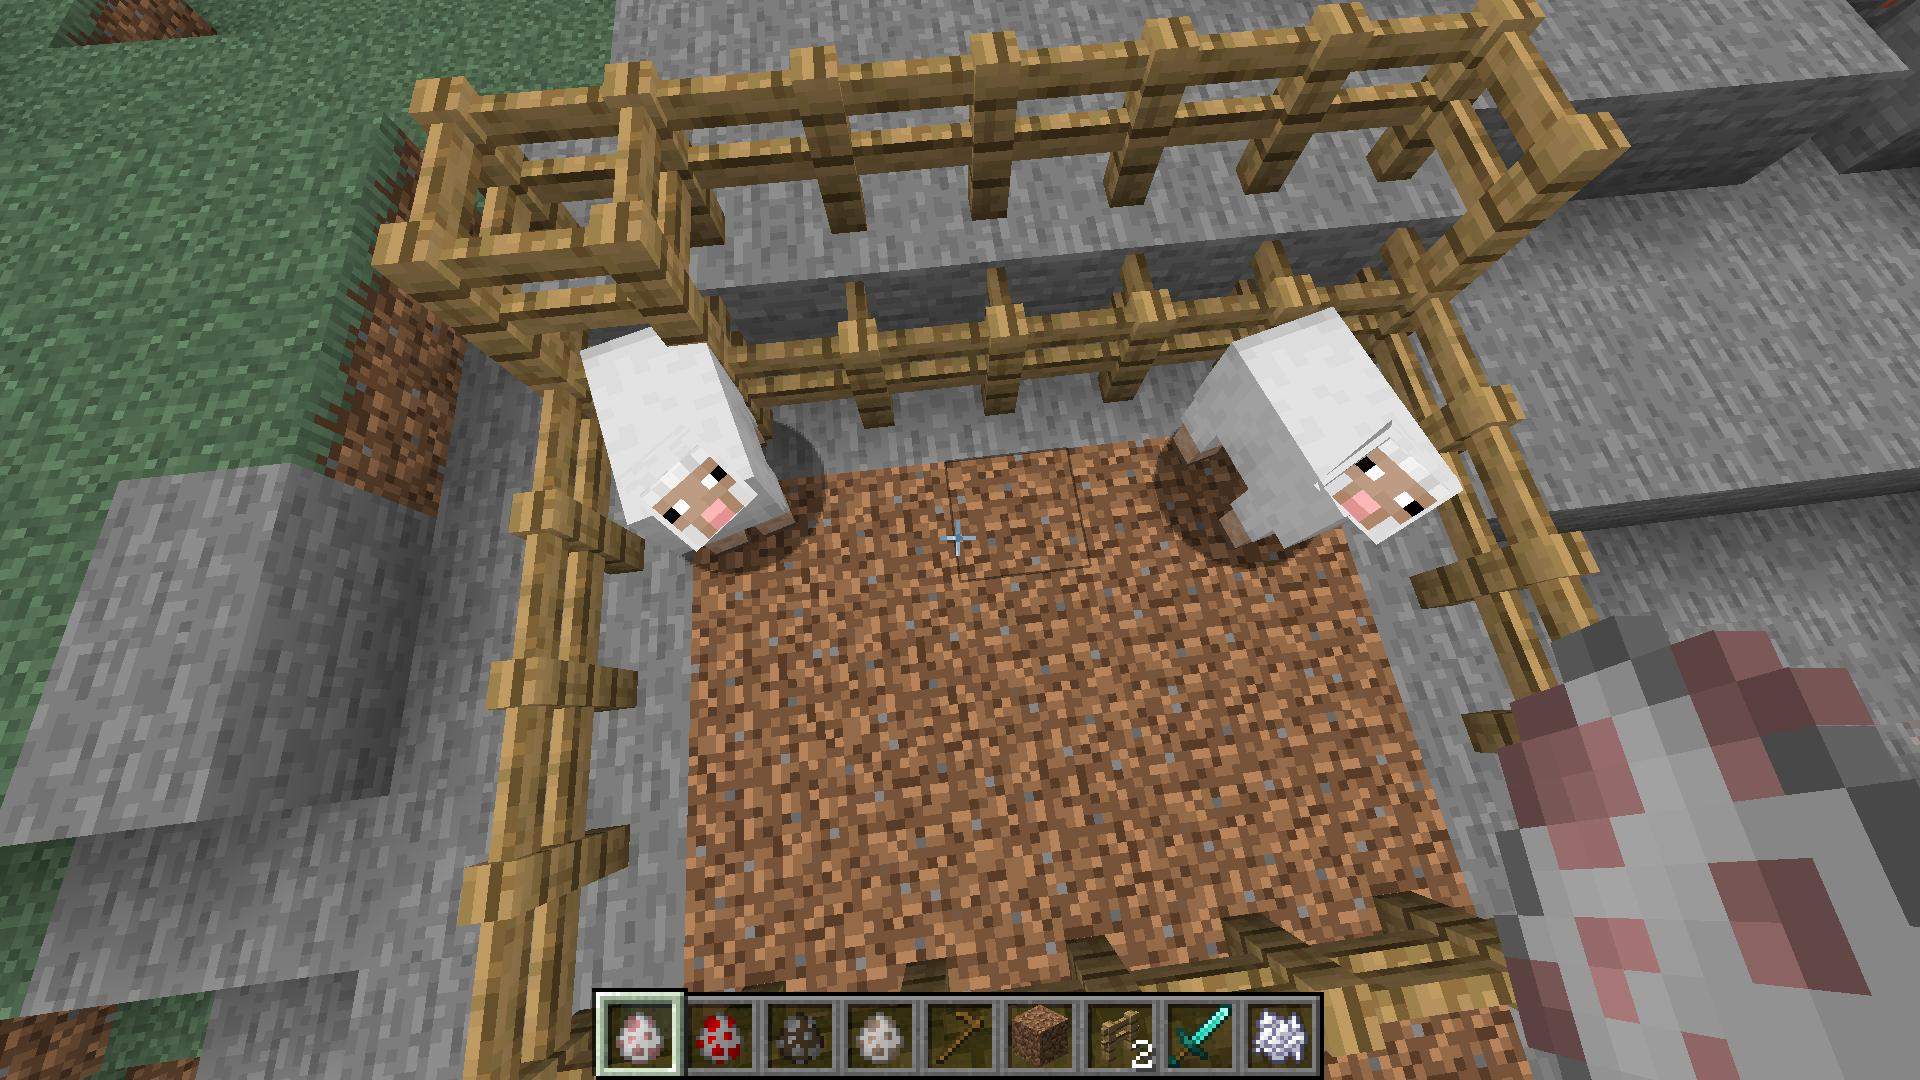sheep: (1171, 305, 1472, 576), (575, 319, 806, 563)
